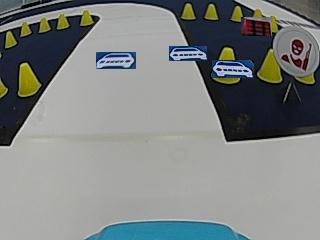evil: (274, 26, 319, 78)
